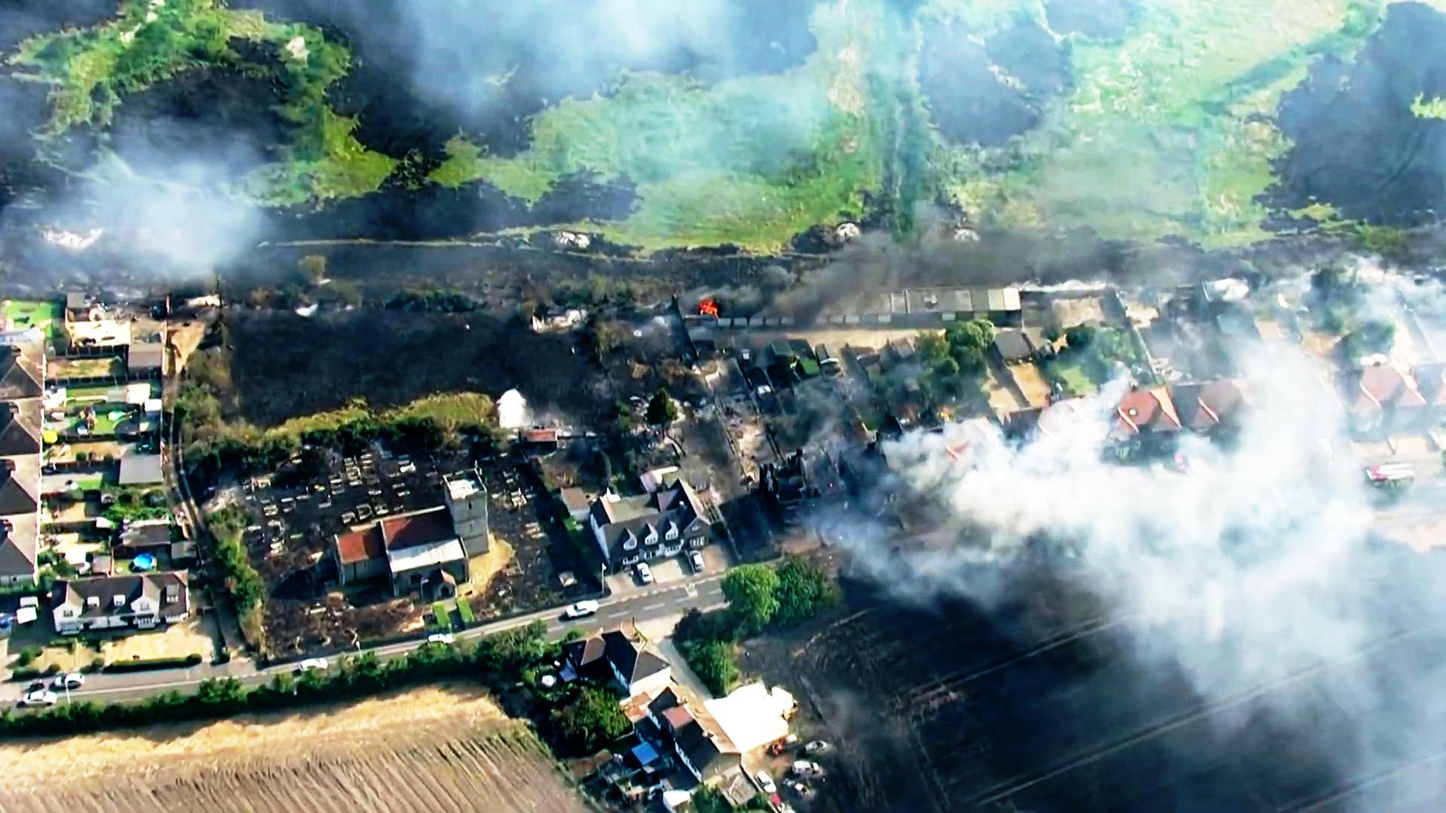smoke: (976, 461, 1328, 568)
